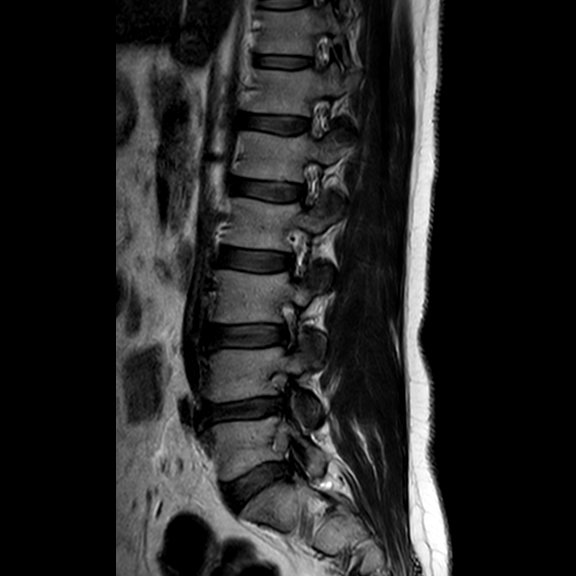RFS0: (274, 218, 321, 288)
RFS1: (264, 292, 307, 356)
